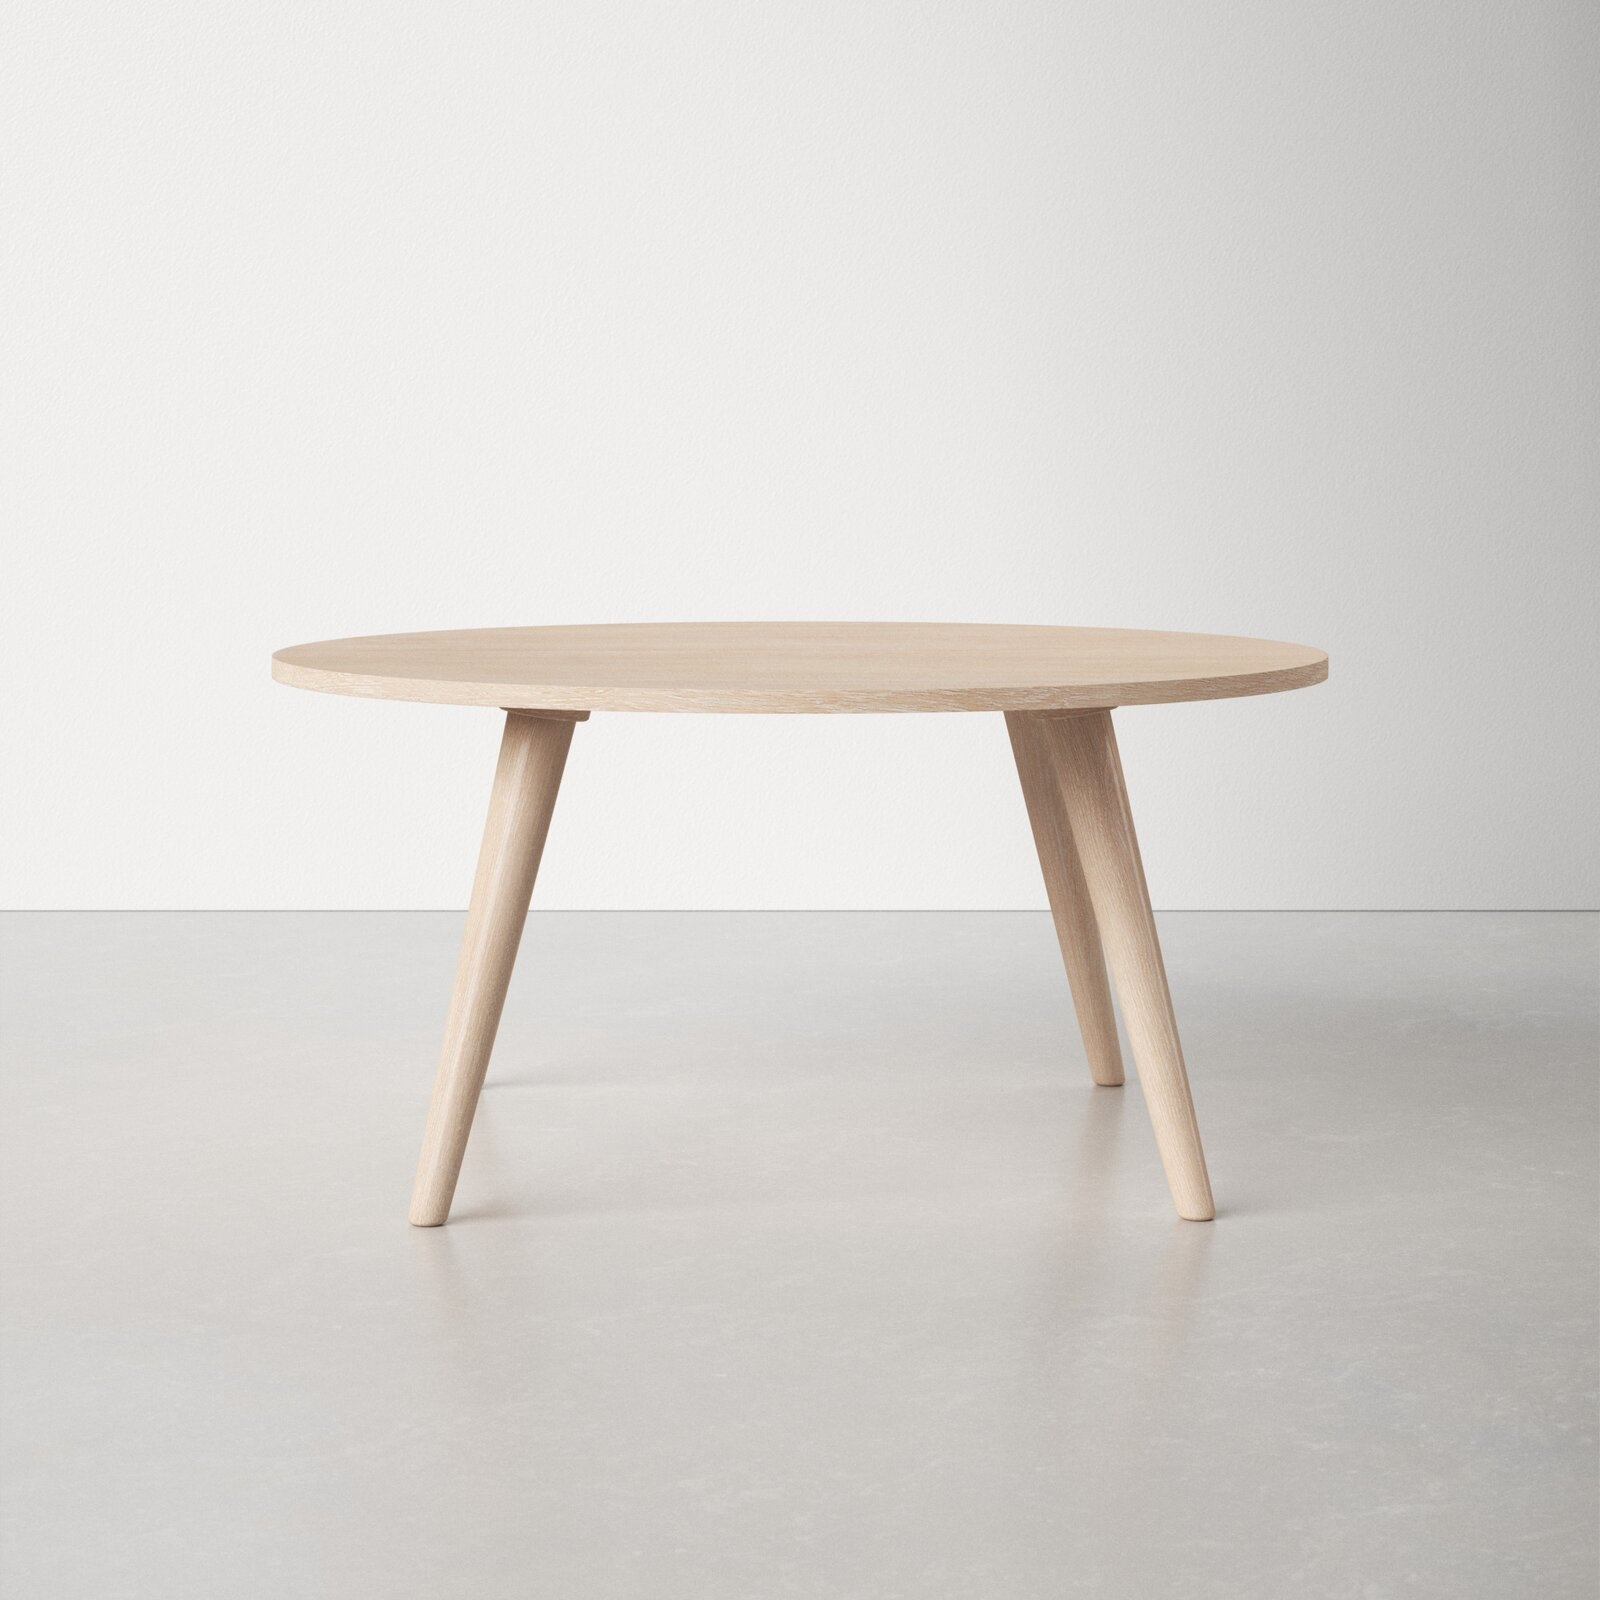obstacle: (273, 623, 1326, 1225)
